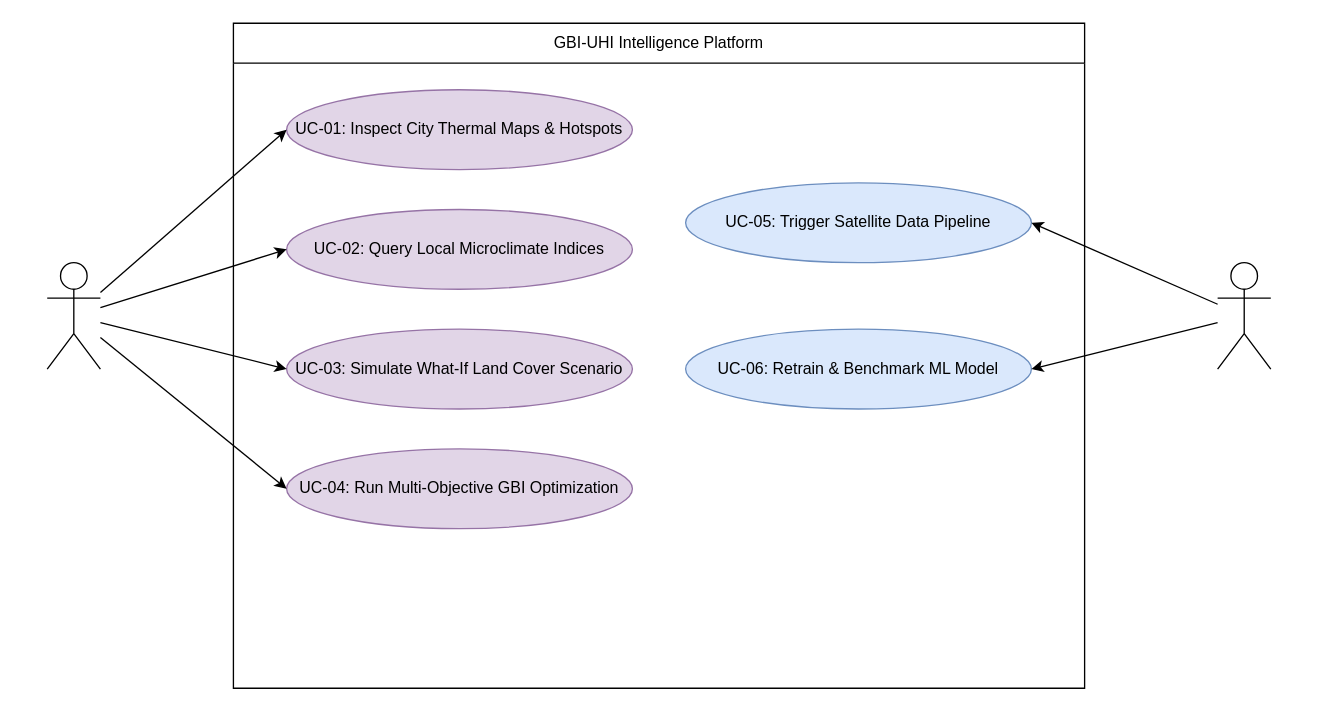
Some shapes in this 1318 by 712 pixel diagram are drawn without their labels. Here are the shapes that lost their labels. From the top down, the box of each, then its label:
(46, 261, 100, 369): Urban Planner
(1216, 261, 1271, 369): System Admin
